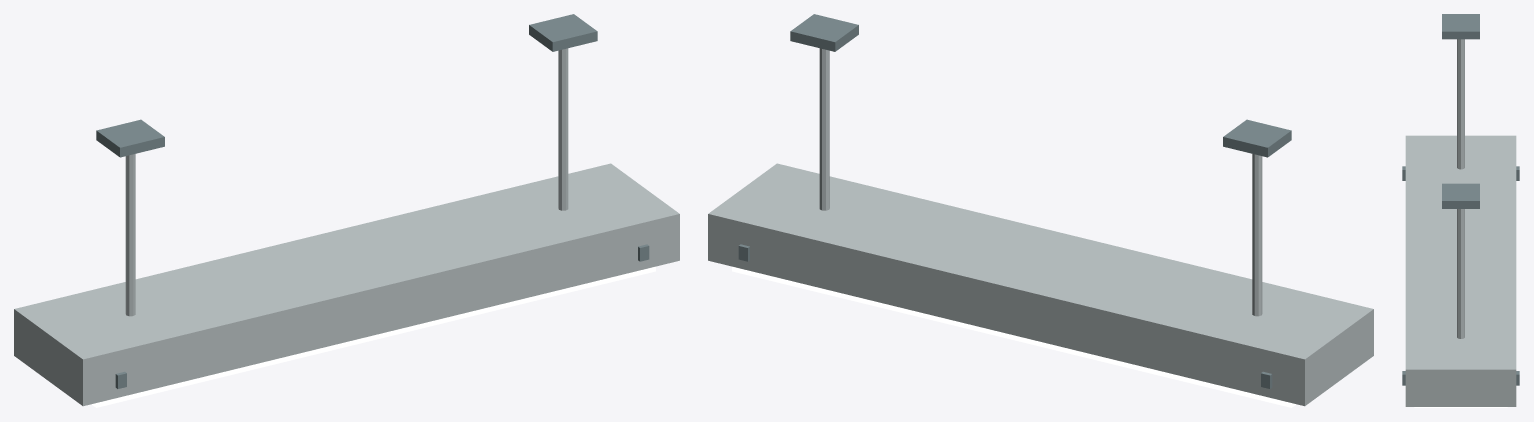
File: industrial_luminaire.glb
3 renders of one model, left to right at view 1: azimuth 30°, elevation 25°; view 2: azimuth 150°, elevation 25°; view 3: azimuth 270°, elevation 25°, orthographic. The views are drawn at different scales.
Visible parts, largest first — view 1: industrial_luminaire_SPOT_structure_galvanized.002, industrial_luminaire_SPOT_structure_coated_steel.002, industrial_luminaire_SPOT_structure_diffuser.002; view 2: industrial_luminaire_SPOT_structure_galvanized.002, industrial_luminaire_SPOT_structure_coated_steel.002, industrial_luminaire_SPOT_structure_diffuser.002; view 3: industrial_luminaire_SPOT_structure_galvanized.002, industrial_luminaire_SPOT_structure_coated_steel.002.
Boxes of the visible parts, left/top/right/bottom form: industrial_luminaire_SPOT_structure_galvanized.002: left=14, top=48, right=679, bottom=406; industrial_luminaire_SPOT_structure_coated_steel.002: left=96, top=14, right=649, bottom=388; industrial_luminaire_SPOT_structure_diffuser.002: left=92, top=266, right=655, bottom=407; industrial_luminaire_SPOT_structure_galvanized.002: left=708, top=48, right=1373, bottom=406; industrial_luminaire_SPOT_structure_coated_steel.002: left=738, top=14, right=1291, bottom=388; industrial_luminaire_SPOT_structure_diffuser.002: left=732, top=266, right=1295, bottom=407; industrial_luminaire_SPOT_structure_galvanized.002: left=1405, top=39, right=1516, bottom=406; industrial_luminaire_SPOT_structure_coated_steel.002: left=1402, top=14, right=1519, bottom=385.
Bounding box in the file's own units: 1.6 × 0.6085 × 0.34.
